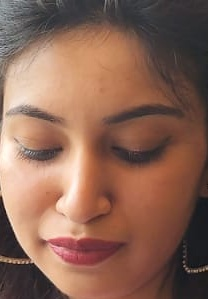papule: (95, 80, 114, 94)
